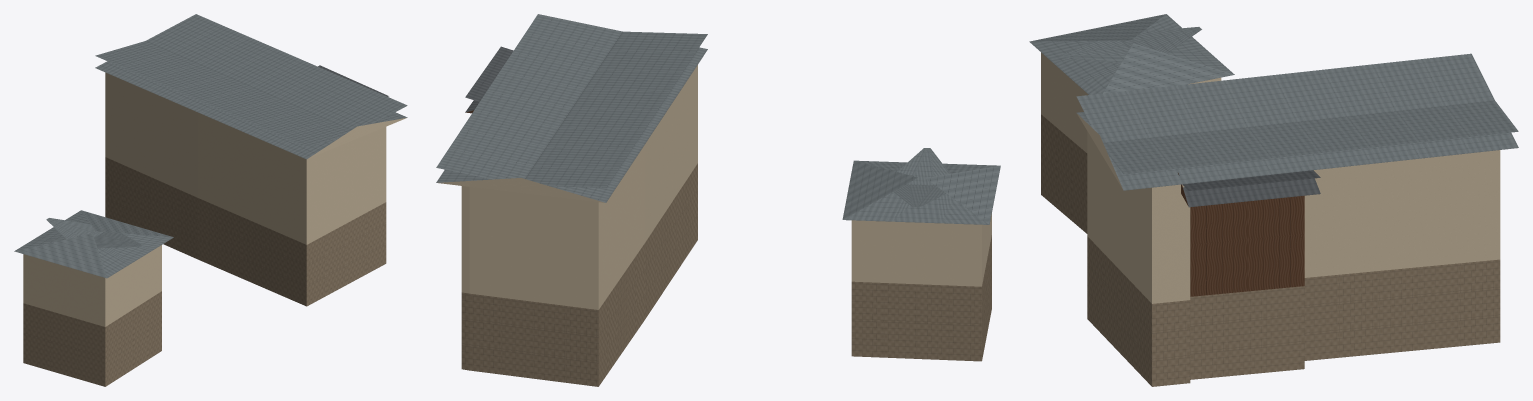
File: bld_c21_32_370.gltf
3 renders of one model, left to right at view 1: azimuth 30°, elevation 25°; view 2: azimuth 150°, elevation 25°; view 3: azimuth 270°, elevation 25°, orthographic. The views are drawn at different scales.
Parts seen in each view (by area): view 1: bld_c21_32_370; view 2: bld_c21_32_370; view 3: bld_c21_32_370.
Part boxes in pixels (bbox=[...]): bld_c21_32_370: bbox=[14, 14, 407, 386]; bld_c21_32_370: bbox=[436, 14, 1000, 386]; bld_c21_32_370: bbox=[1029, 14, 1518, 386].
Size of the model in its own units: 33.19 by 14.7 by 27.27.
Materials: 7 (7 with a texture image).
